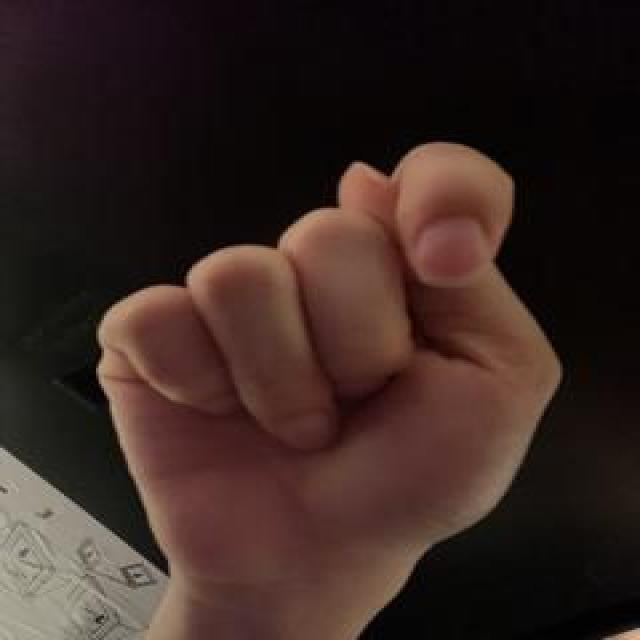T: (91, 137, 568, 593)
